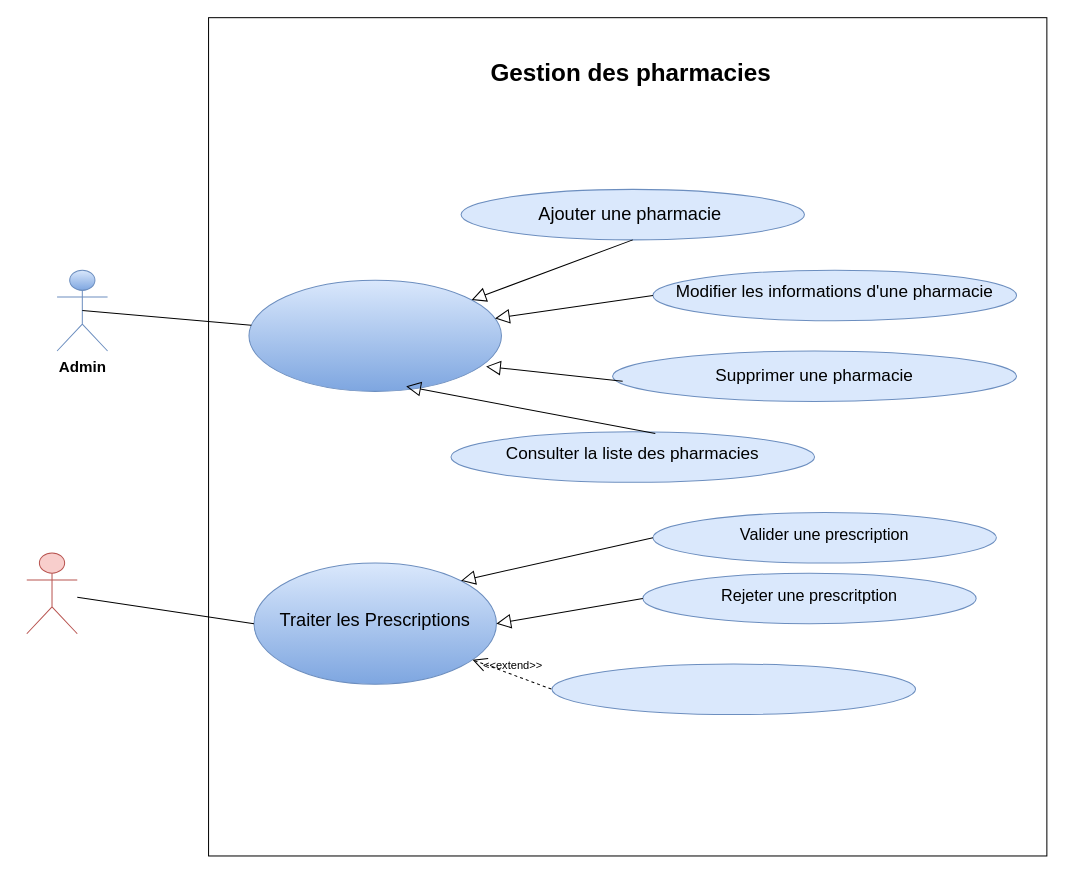
This 1065x874 diagram has some shape labels left out. Each missing label, with the box of its shape:
Gérer les pharmacies: (248, 279, 501, 391)
Pharmacien: (26, 552, 77, 634)
Proposer un Médicament Équivalent: (551, 663, 916, 715)
